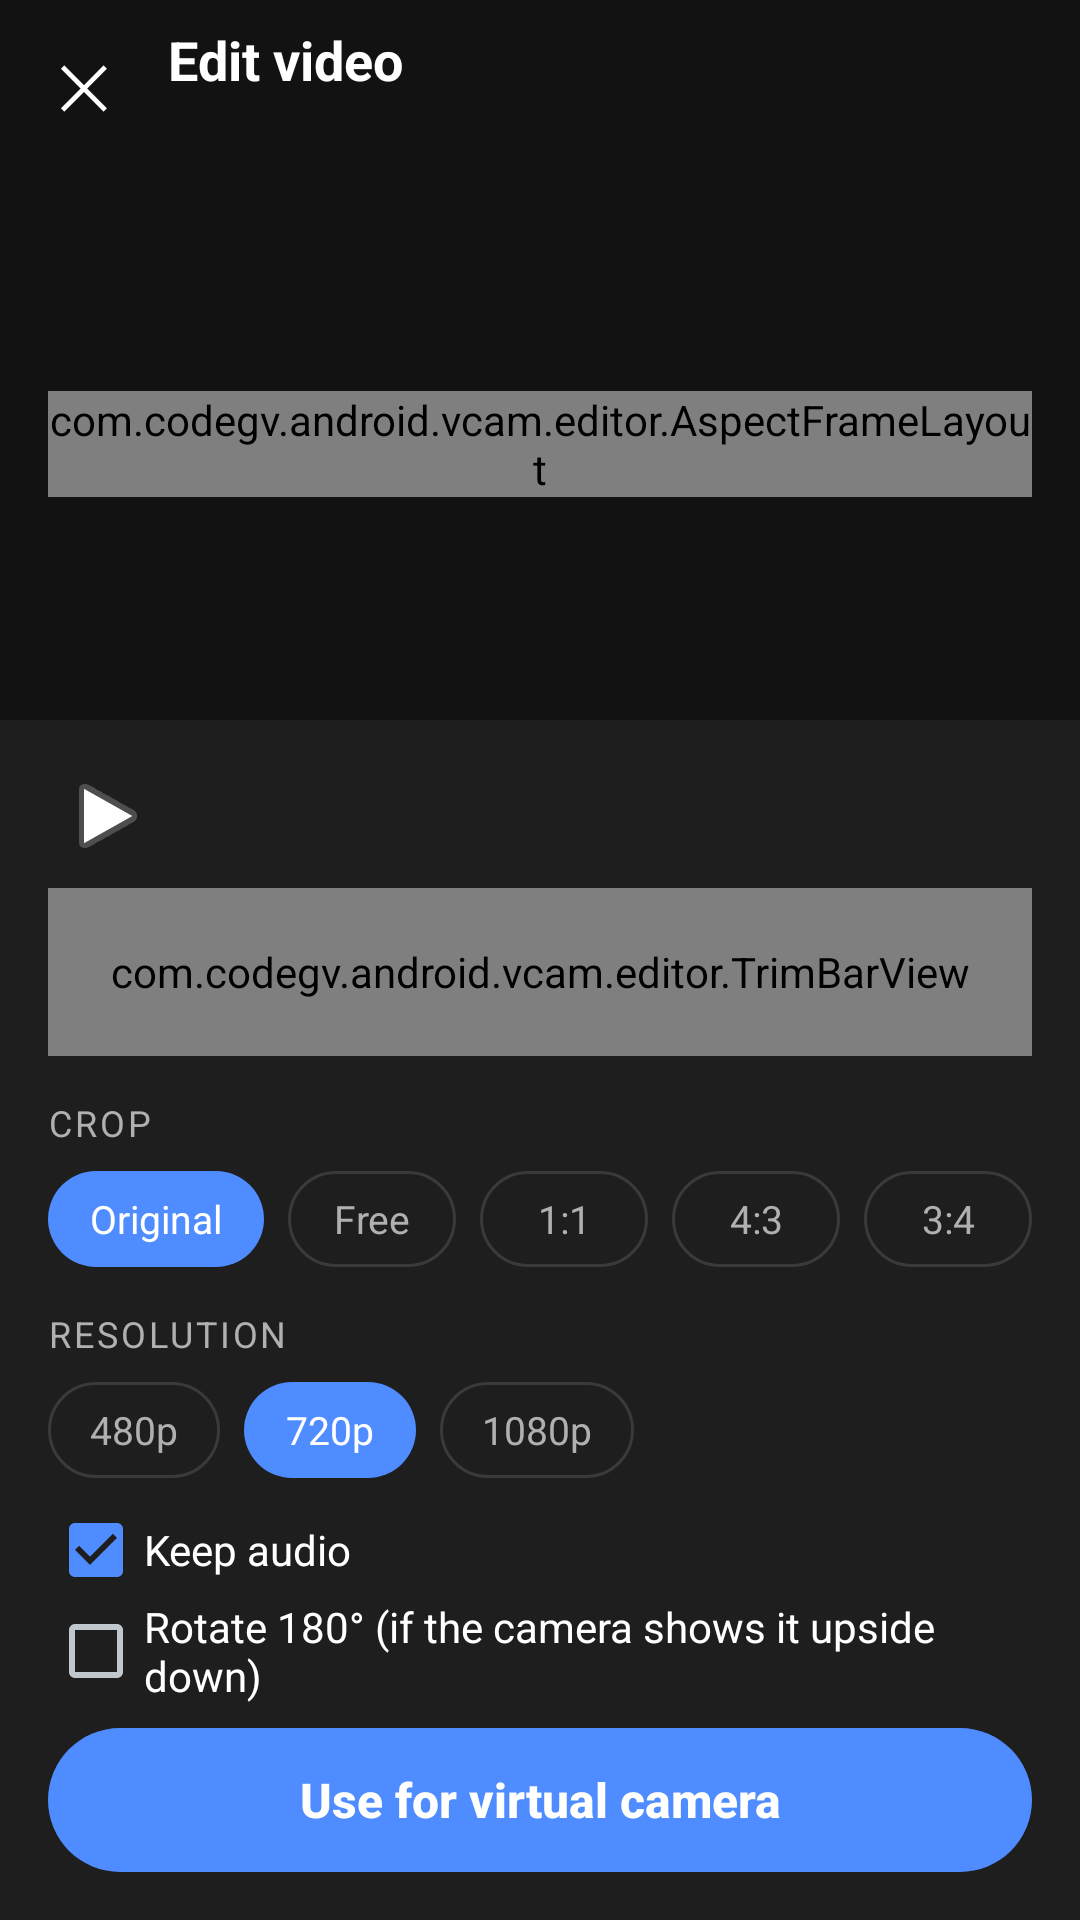

Point at icon controls on the screen. Image size 1080px×1920px, points as [x,y].
Play: [108,816]
